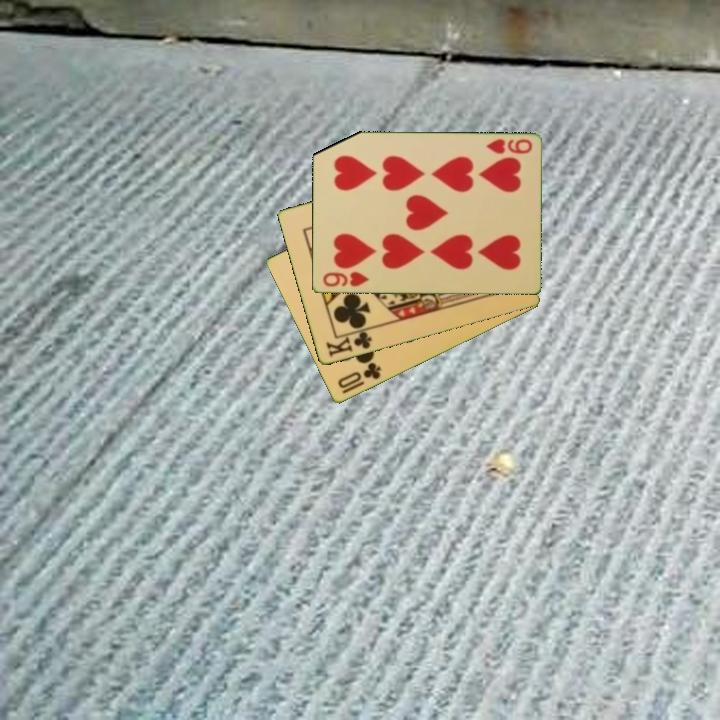10c: (334, 359, 384, 392)
9h: (319, 268, 372, 290), (482, 135, 535, 157)
Kc: (322, 325, 374, 360)
